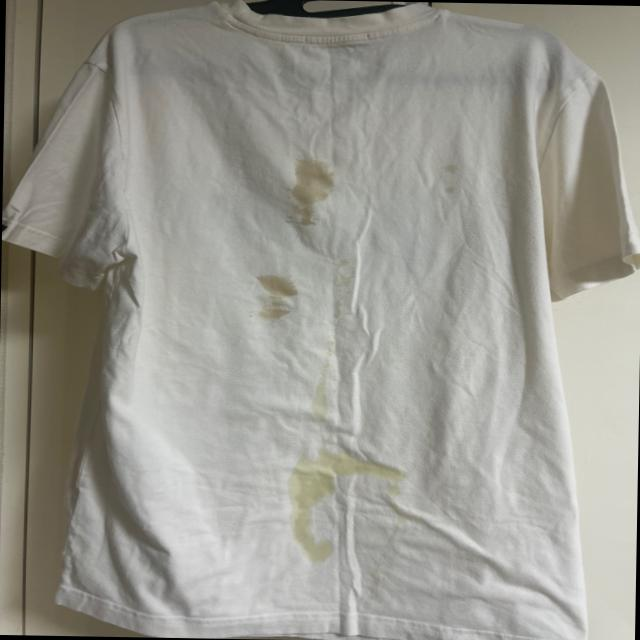stain: (280, 438, 415, 496), (286, 154, 344, 232), (293, 485, 354, 558), (250, 270, 304, 330), (437, 152, 478, 196), (328, 256, 369, 298), (310, 346, 333, 420)
